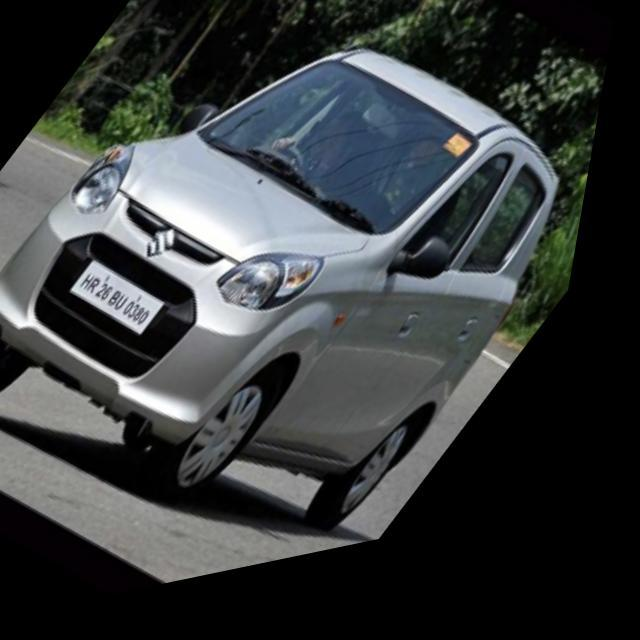license_plate: (62, 244, 192, 364)
